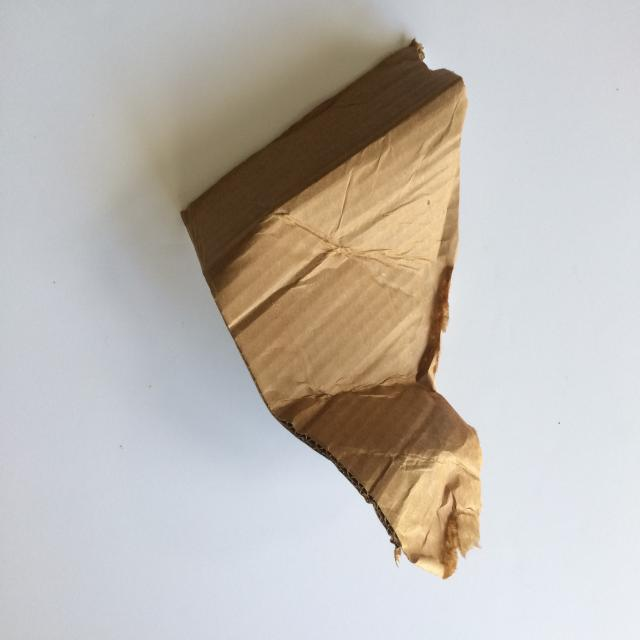Cardboard: (156, 26, 548, 608)
